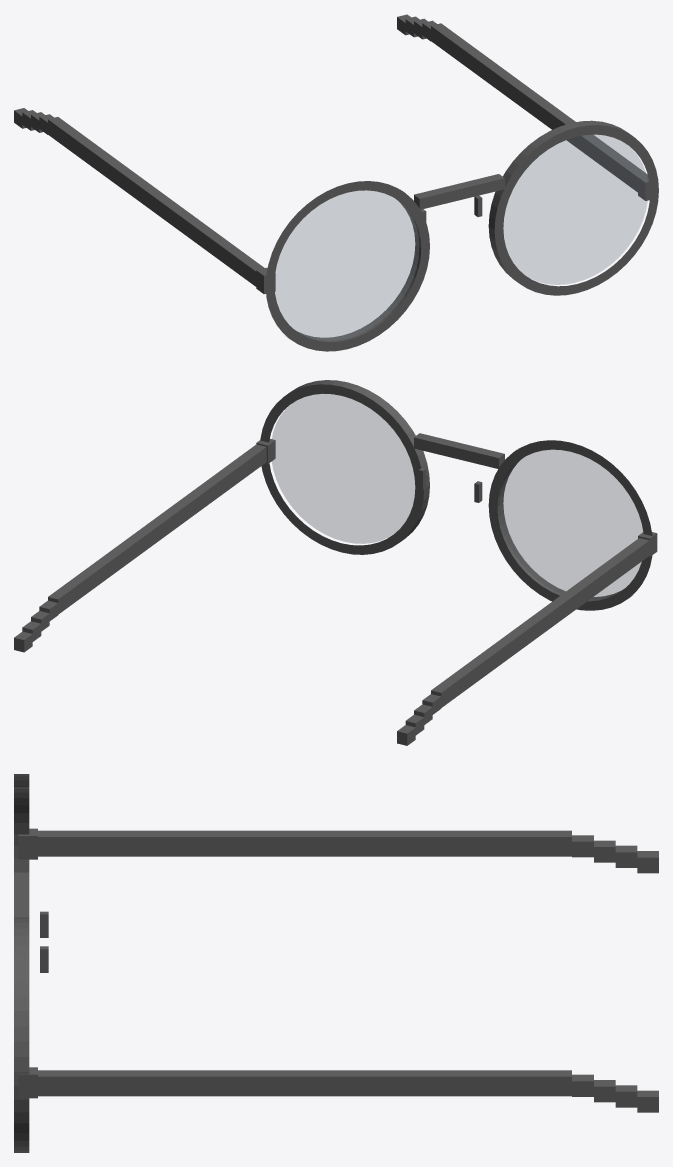
File: p-round-l.glb
The picture shows the model from 3 angles, top to bottom: view 1: azimuth 30°, elevation 25°; view 2: azimuth 150°, elevation 25°; view 3: azimuth 270°, elevation 25°; orthographic projection. The views are drawn at different scales.
Visible parts, largest first — view 1: Lens, Frame; view 2: Lens, Frame; view 3: Frame.
Boxes of the visible parts, left/top/right/bottom form: Lens: left=275, top=135, right=647, bottom=340; Frame: left=14, top=14, right=658, bottom=351; Lens: left=271, top=394, right=642, bottom=599; Frame: left=14, top=380, right=657, bottom=745; Frame: left=14, top=774, right=658, bottom=1152.
Size of the model in its own units: 134 by 54 by 148.
